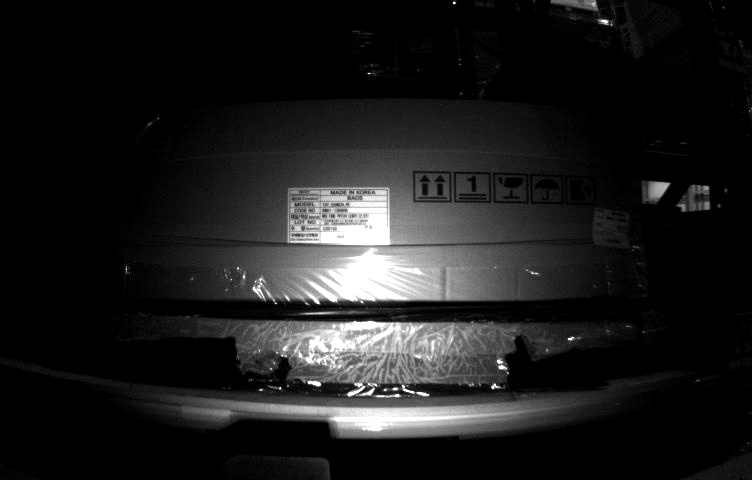True Barcode: (592, 209, 629, 256)
